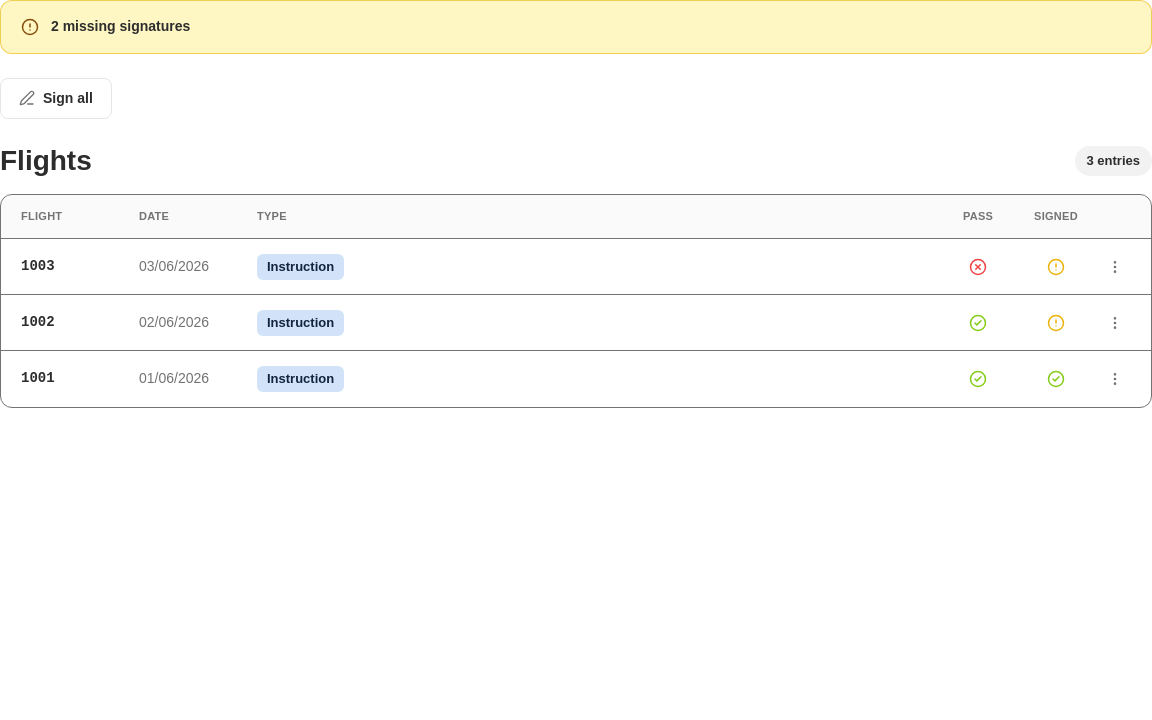
Test case: Signatures › surfaces an error toast when a sign request fails
Click the button named "Open evaluation for flight 1002": coordinates (1115, 323) [1103,311,1127,335]
(page scrolled)
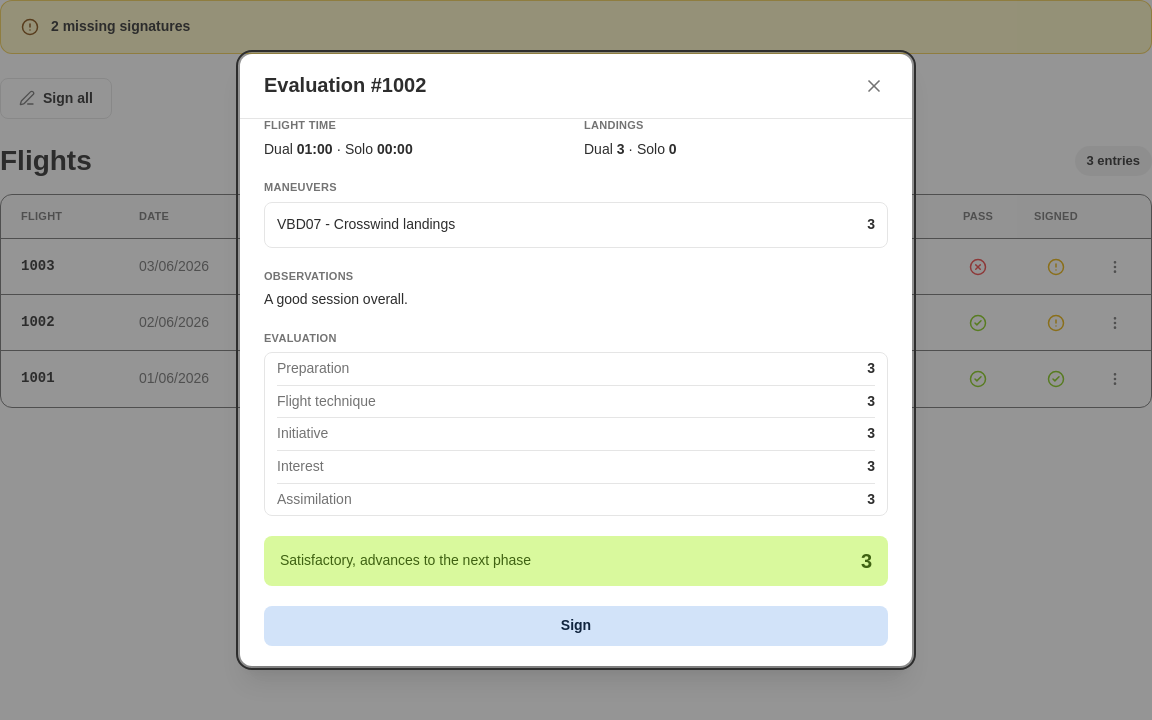
Click the button "Sign": coordinates (576, 626) [264,606,888,646]
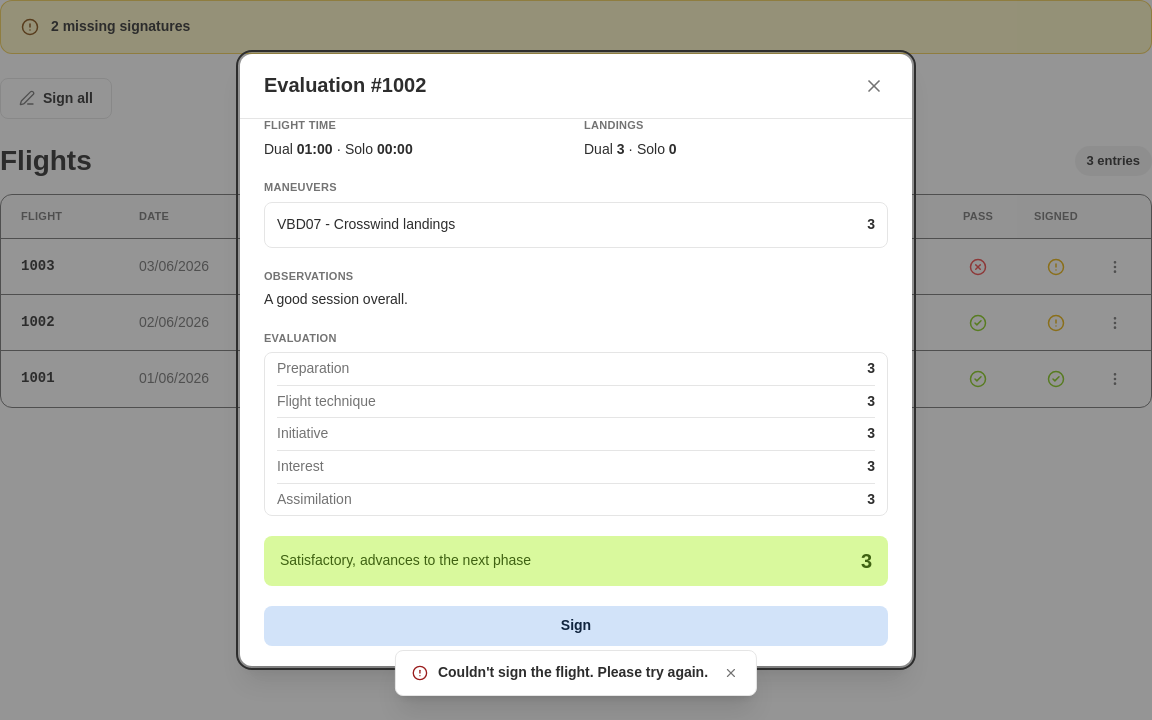
Now the text "Couldn't sign the flight. Please try again." is shown, box [438,663,708,683]
